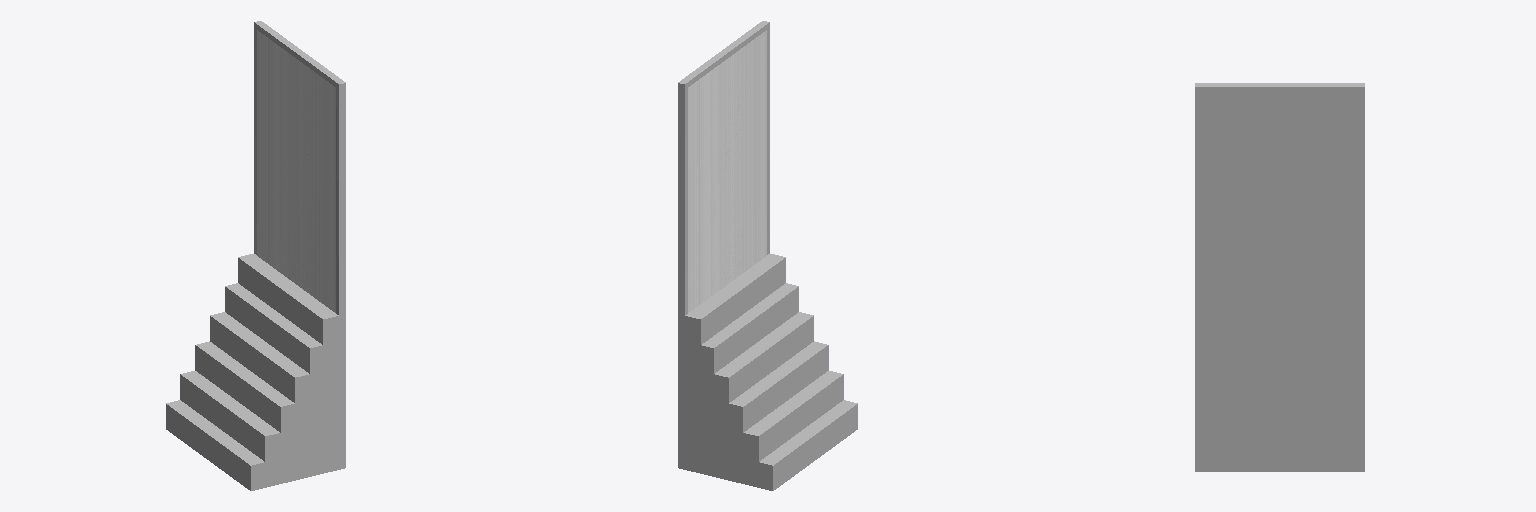
The picture shows the model from 3 angles: view 1: azimuth 30°, elevation 25°; view 2: azimuth 150°, elevation 25°; view 3: azimuth 270°, elevation 25°; orthographic projection.
Parts seen in each view (by area): view 1: Cube.009; view 2: Cube.009; view 3: Cube.009.
Part boxes in pixels (x1,y1,x2,y2): Cube.009: (166,21,345,490); Cube.009: (678,21,857,490); Cube.009: (1195,83,1364,471).
Size of the model in its own units: 1.3 by 5 by 2.
3 materials, 1 textured.